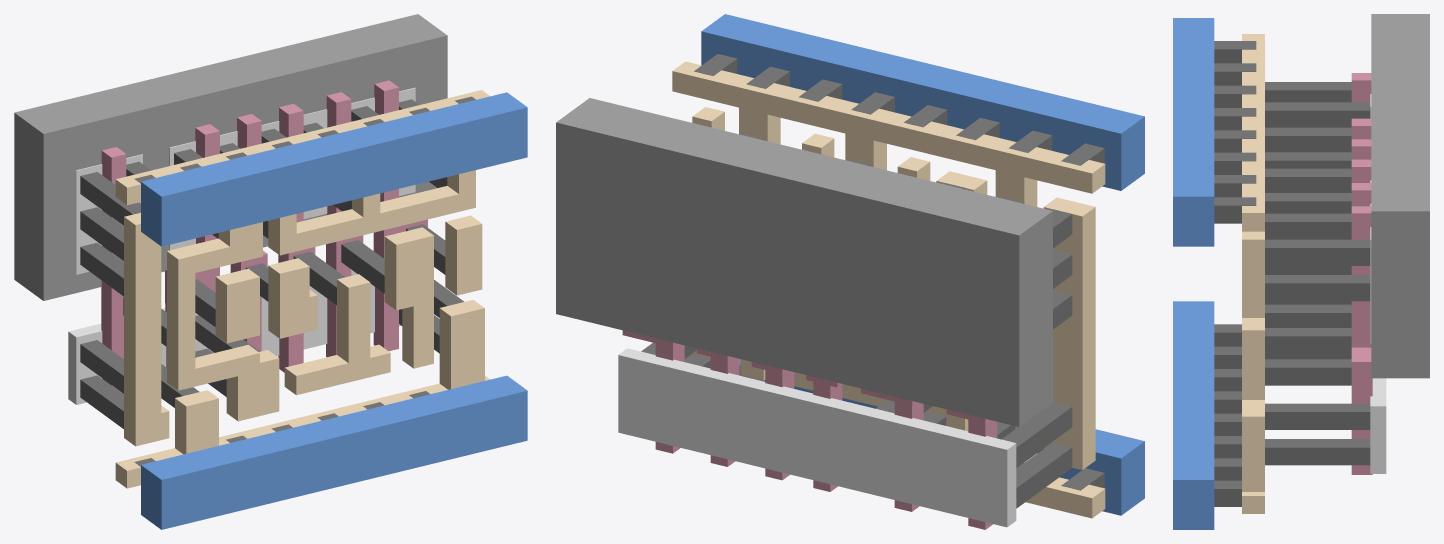
Rendered from sky130_fd_sc_hd__a41o_1.gds.gltf.
3 renders of one model, left to right at view 1: azimuth 30°, elevation 25°; view 2: azimuth 150°, elevation 25°; view 3: azimuth 270°, elevation 25°, orthographic. The views are drawn at different scales.
Visible parts, largest first — view 1: sky130_fd_sc_hd__a41o_1_li1, sky130_fd_sc_hd__a41o_1_met1, sky130_fd_sc_hd__a41o_1_nwell, sky130_fd_sc_hd__a41o_1_licon, sky130_fd_sc_hd__a41o_1_poly, sky130_fd_sc_hd__a41o_1_diff, sky130_fd_sc_hd__a41o_1_mcon; view 2: sky130_fd_sc_hd__a41o_1_nwell, sky130_fd_sc_hd__a41o_1_diff, sky130_fd_sc_hd__a41o_1_li1, sky130_fd_sc_hd__a41o_1_met1, sky130_fd_sc_hd__a41o_1_licon, sky130_fd_sc_hd__a41o_1_mcon, sky130_fd_sc_hd__a41o_1_poly; view 3: sky130_fd_sc_hd__a41o_1_licon, sky130_fd_sc_hd__a41o_1_nwell, sky130_fd_sc_hd__a41o_1_met1, sky130_fd_sc_hd__a41o_1_mcon, sky130_fd_sc_hd__a41o_1_li1, sky130_fd_sc_hd__a41o_1_poly, sky130_fd_sc_hd__a41o_1_diff.
Part boxes in pixels (x1,y1,x2,y2): sky130_fd_sc_hd__a41o_1_li1: (115, 90, 489, 488); sky130_fd_sc_hd__a41o_1_met1: (141, 92, 527, 529); sky130_fd_sc_hd__a41o_1_nwell: (14, 14, 447, 300); sky130_fd_sc_hd__a41o_1_licon: (80, 99, 463, 428); sky130_fd_sc_hd__a41o_1_poly: (101, 80, 427, 394); sky130_fd_sc_hd__a41o_1_diff: (68, 87, 415, 404); sky130_fd_sc_hd__a41o_1_mcon: (134, 96, 475, 466); sky130_fd_sc_hd__a41o_1_nwell: (556, 98, 1052, 426); sky130_fd_sc_hd__a41o_1_diff: (618, 348, 1016, 527); sky130_fd_sc_hd__a41o_1_li1: (672, 61, 1105, 518); sky130_fd_sc_hd__a41o_1_met1: (701, 14, 1144, 515); sky130_fd_sc_hd__a41o_1_licon: (641, 133, 1072, 508); sky130_fd_sc_hd__a41o_1_mcon: (694, 54, 1104, 490); sky130_fd_sc_hd__a41o_1_poly: (622, 330, 997, 529); sky130_fd_sc_hd__a41o_1_licon: (1265, 82, 1370, 465); sky130_fd_sc_hd__a41o_1_nwell: (1371, 14, 1429, 378); sky130_fd_sc_hd__a41o_1_met1: (1173, 18, 1214, 529); sky130_fd_sc_hd__a41o_1_mcon: (1214, 41, 1256, 506); sky130_fd_sc_hd__a41o_1_li1: (1242, 34, 1264, 513); sky130_fd_sc_hd__a41o_1_poly: (1351, 73, 1372, 474); sky130_fd_sc_hd__a41o_1_diff: (1370, 94, 1386, 473).
Size of the model in its own units: 4.06 by 3.2 by 2.24.
